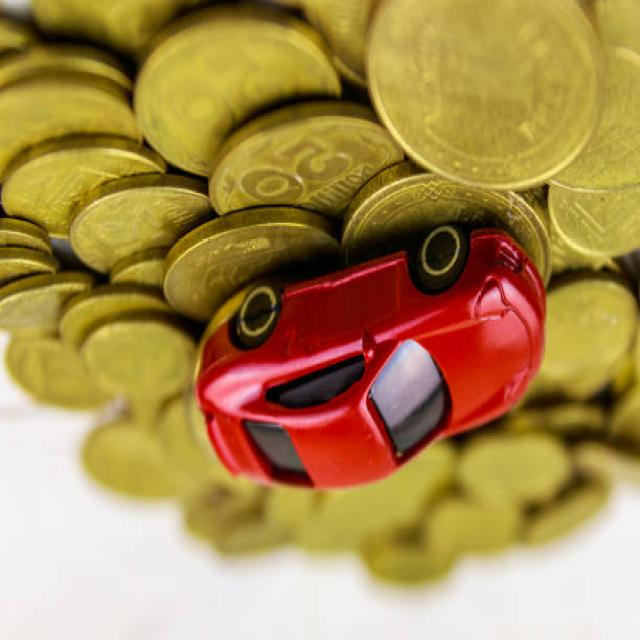Car: (192, 222, 547, 492)
